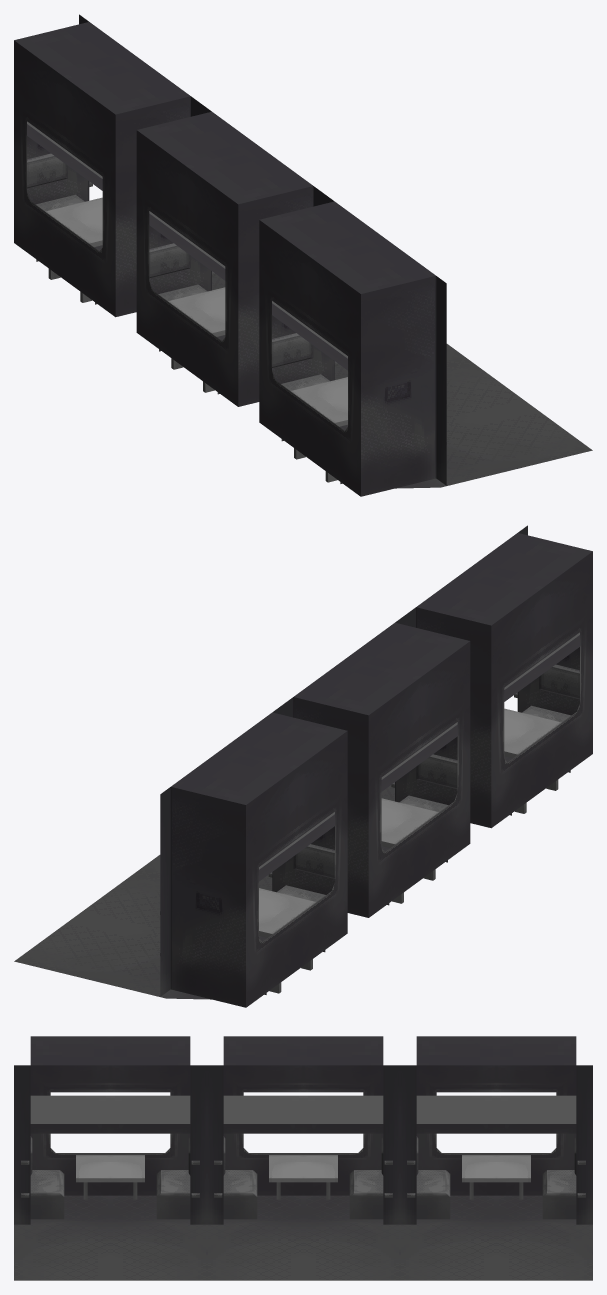
The model's file is train_new.gltf.
3 renders of one model, top to bottom at view 1: azimuth 30°, elevation 25°; view 2: azimuth 150°, elevation 25°; view 3: azimuth 270°, elevation 25°, orthographic. The views are drawn at different scales.
Visible parts, largest first — view 1: train; view 2: train; view 3: train.
Boxes of the visible parts, bbox=[...] form: train: bbox=[14, 14, 592, 496]; train: bbox=[14, 525, 592, 1007]; train: bbox=[14, 1036, 592, 1280].
Bounding box in the file's own units: 3.4 × 3.13 × 9.79.
1 material, 1 textured.
